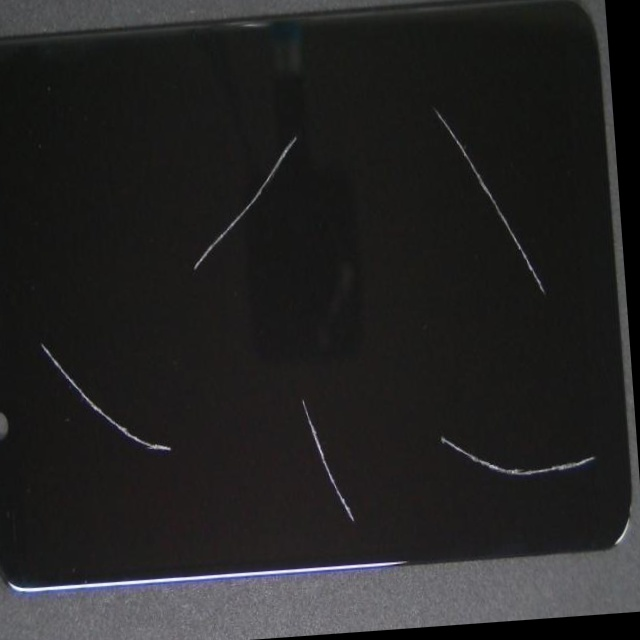scratch: (59, 68, 313, 417)
